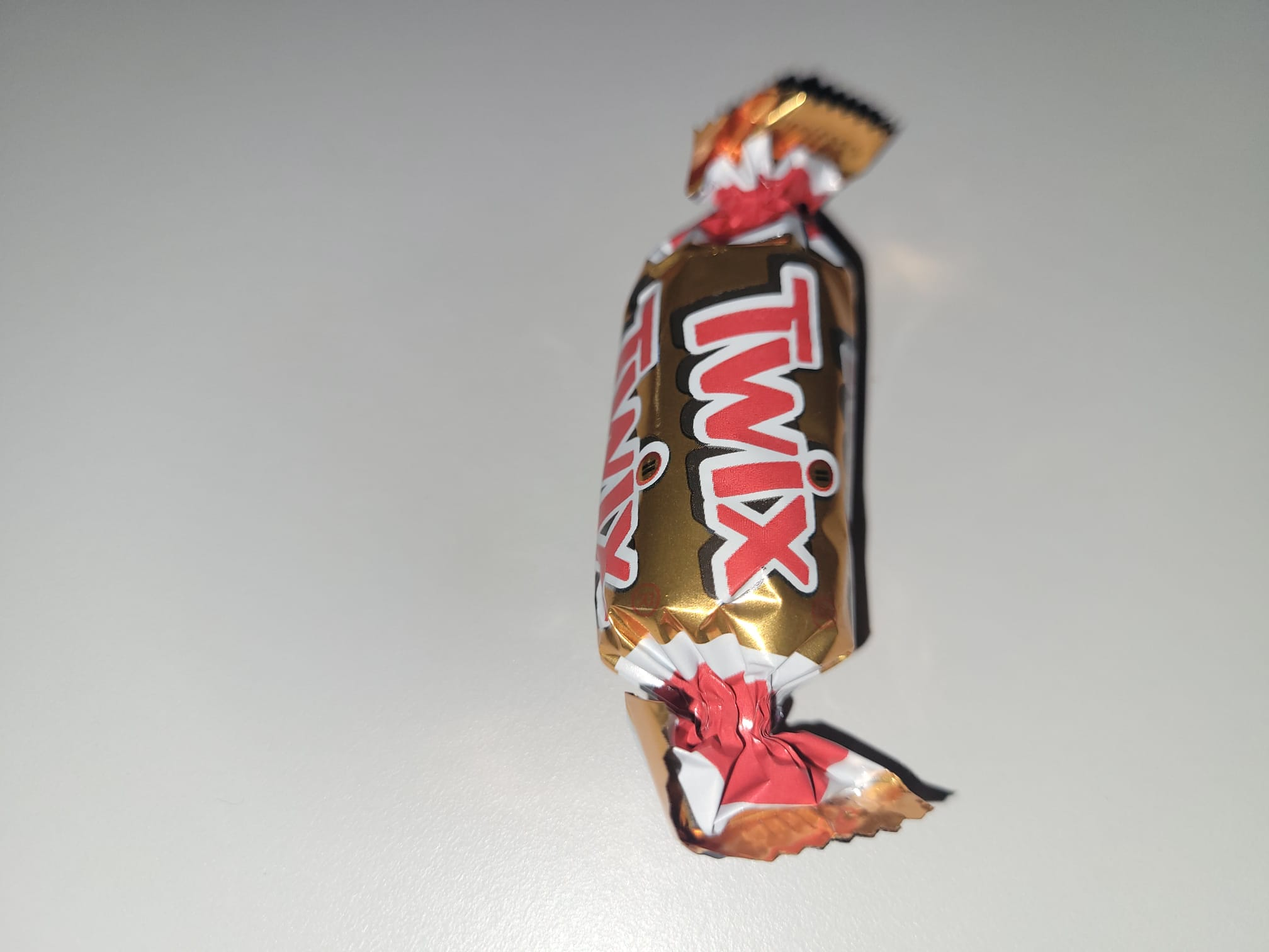Twix: (596, 73, 954, 862)
